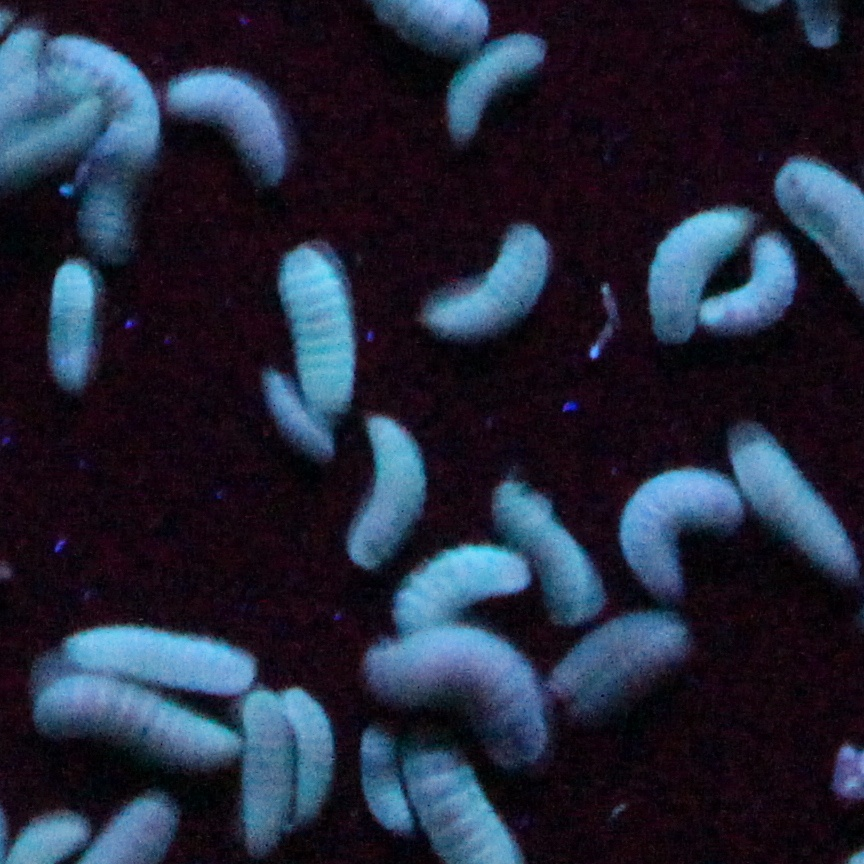larve: (367, 636, 573, 764), (727, 441, 859, 584), (425, 221, 556, 341), (45, 690, 245, 764), (645, 204, 747, 347), (499, 487, 605, 621), (547, 616, 676, 724), (393, 767, 542, 858), (330, 416, 425, 553), (159, 76, 282, 178), (627, 476, 739, 581), (282, 250, 347, 413), (447, 36, 547, 141), (73, 630, 245, 690), (701, 238, 801, 336), (228, 693, 290, 849), (96, 107, 150, 256), (283, 682, 336, 831), (44, 267, 103, 397)
